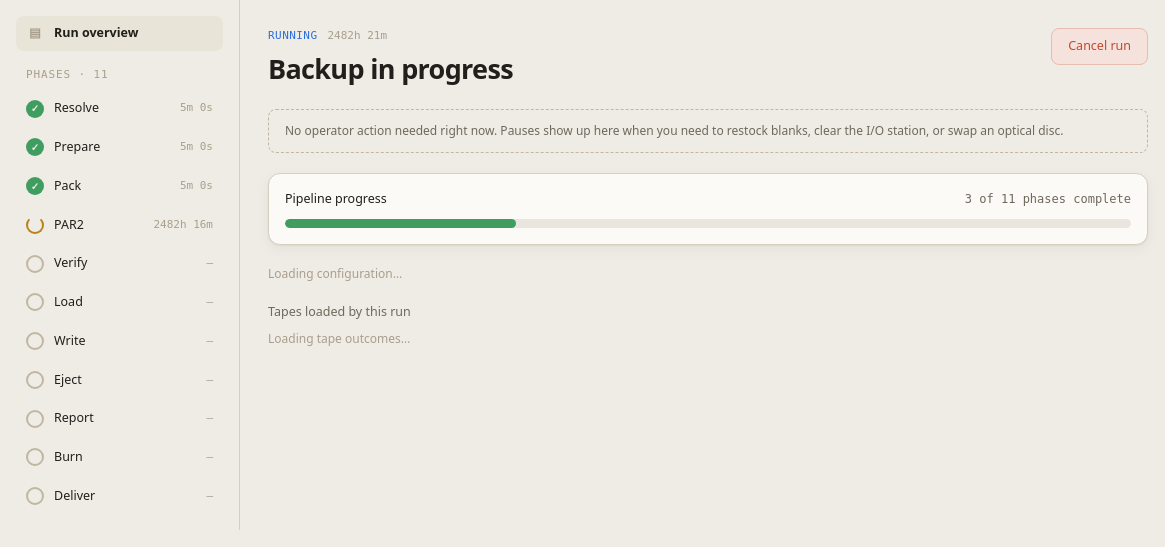
it: RunDetail › shows a pending placeholder for a phase that has not started
This screenshot has width=1165, height=547.
Expected: the button "▤ Run overview" is shown, [16,16,223,51]
Click the button "Deliver —" at (120, 496), box [16,479,223,514]
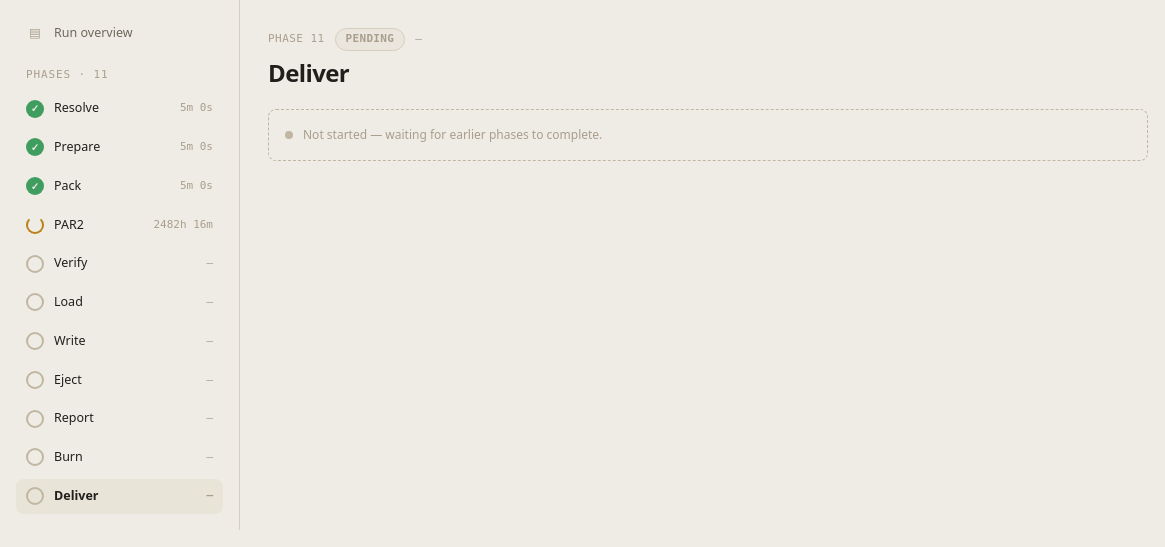
Expected: the text "Not started — waiting for earlier phases to complete." is shown, [268,108,1148,160]
